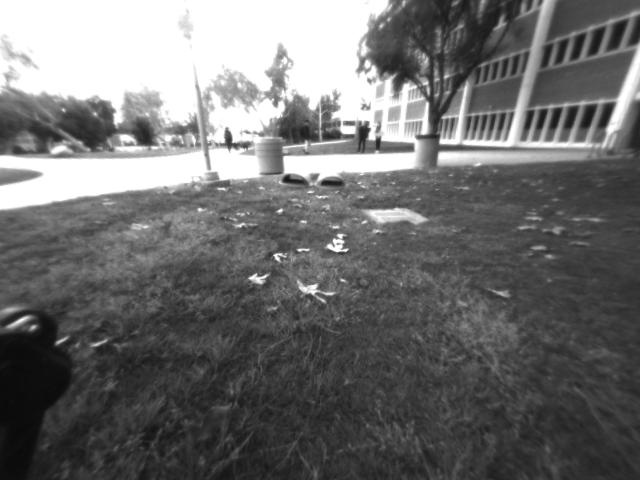trashcan: (249, 130, 289, 179), (415, 130, 443, 170)
